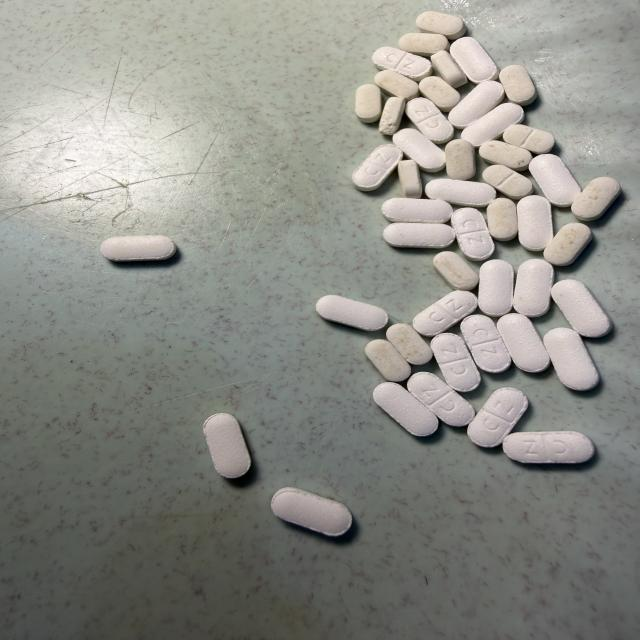pill: (271, 487, 352, 536), (408, 372, 474, 426), (468, 388, 528, 447), (551, 280, 612, 337), (373, 383, 438, 436), (544, 328, 599, 390), (497, 314, 550, 372), (204, 414, 251, 478), (503, 431, 594, 463), (431, 333, 480, 392), (413, 291, 477, 336), (461, 315, 511, 372), (462, 103, 524, 147), (529, 154, 580, 206), (449, 81, 504, 129), (316, 295, 388, 331), (514, 259, 554, 317), (352, 145, 402, 191), (450, 37, 498, 84), (393, 129, 445, 172), (452, 208, 494, 260), (406, 98, 453, 144), (572, 177, 620, 221), (544, 223, 592, 266), (373, 47, 432, 81), (517, 196, 553, 251), (425, 179, 495, 207), (478, 260, 513, 316), (101, 235, 176, 261), (387, 324, 432, 365), (365, 340, 410, 381), (383, 223, 455, 248), (382, 198, 452, 223), (483, 165, 533, 199), (434, 252, 478, 290), (479, 140, 532, 171), (503, 124, 554, 153), (500, 65, 536, 106), (419, 76, 460, 111), (416, 11, 466, 39), (374, 70, 419, 100), (487, 198, 518, 241), (431, 51, 467, 88), (445, 139, 475, 180), (399, 33, 449, 56), (355, 84, 382, 123), (379, 97, 405, 135), (398, 160, 422, 198)
